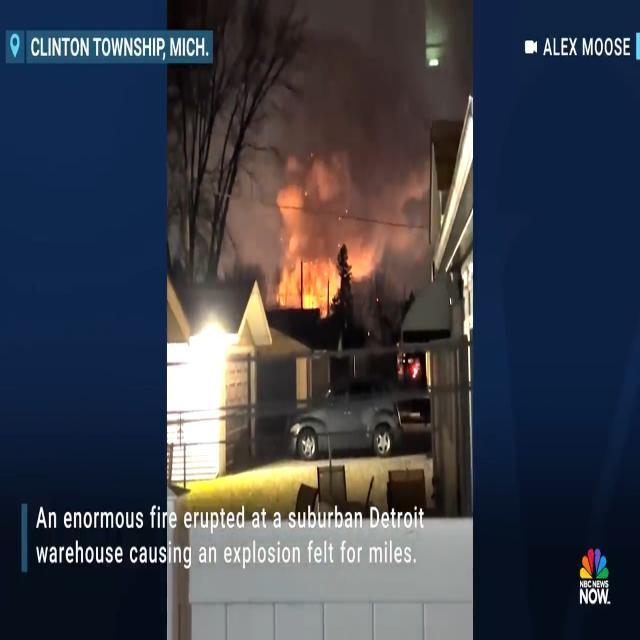fire: (284, 266, 334, 308), (396, 346, 434, 384)
